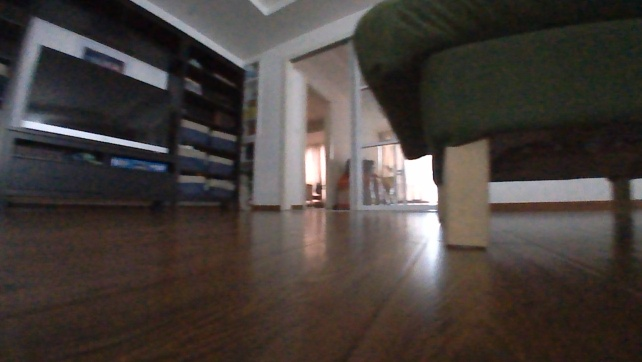TV_stand: (0, 125, 184, 209)
sofa1: (352, 0, 641, 251)
